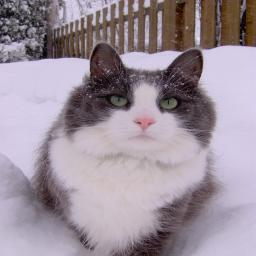catnose: (133, 116, 155, 130)
